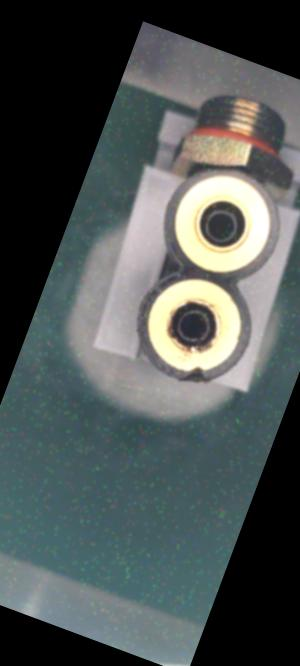bump: (174, 358, 213, 392)
